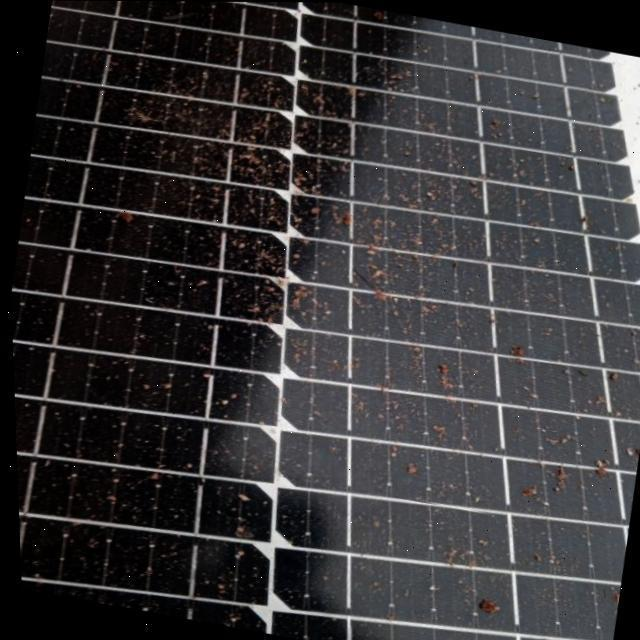Surface Contaminant: (303, 54, 640, 640)
